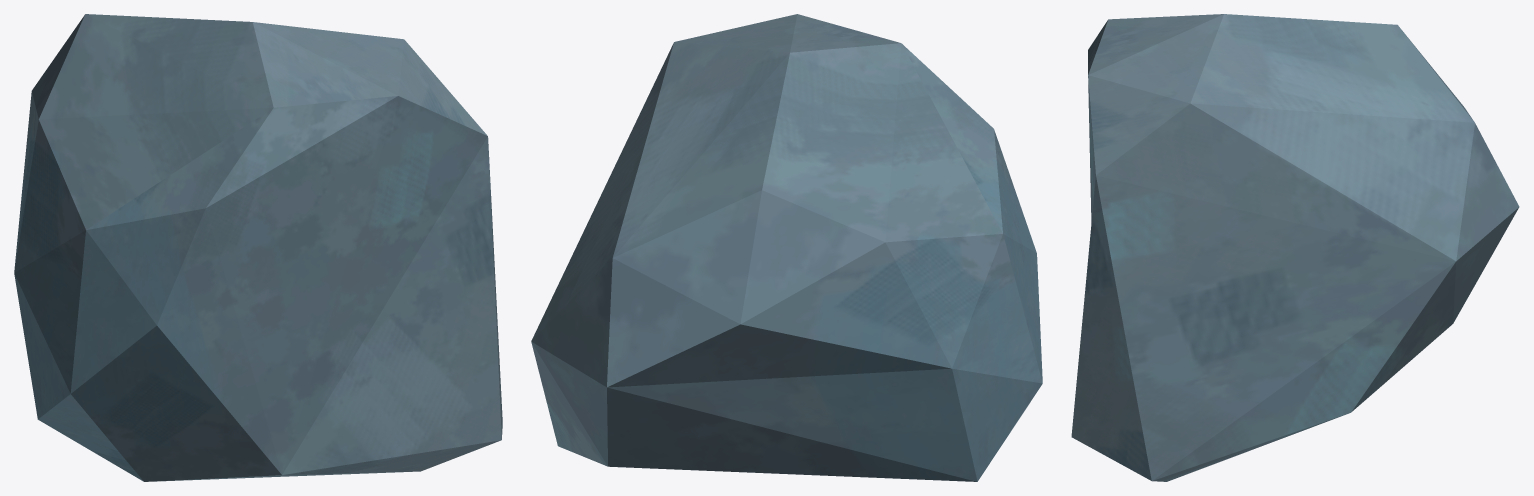
The model's file is rock13.fbx.
The picture shows the model from 3 angles, left to right: view 1: azimuth 30°, elevation 25°; view 2: azimuth 150°, elevation 25°; view 3: azimuth 270°, elevation 25°; orthographic projection. The views are drawn at different scales.
Parts seen in each view (by area): view 1: rock13; view 2: rock13; view 3: rock13.
Boxes of the visible parts, x1,y1,x2,y2 form: rock13: (14, 14, 502, 481); rock13: (531, 14, 1042, 481); rock13: (1071, 14, 1519, 481).
Size of the model in its own units: 7991 by 8263 by 8205.
